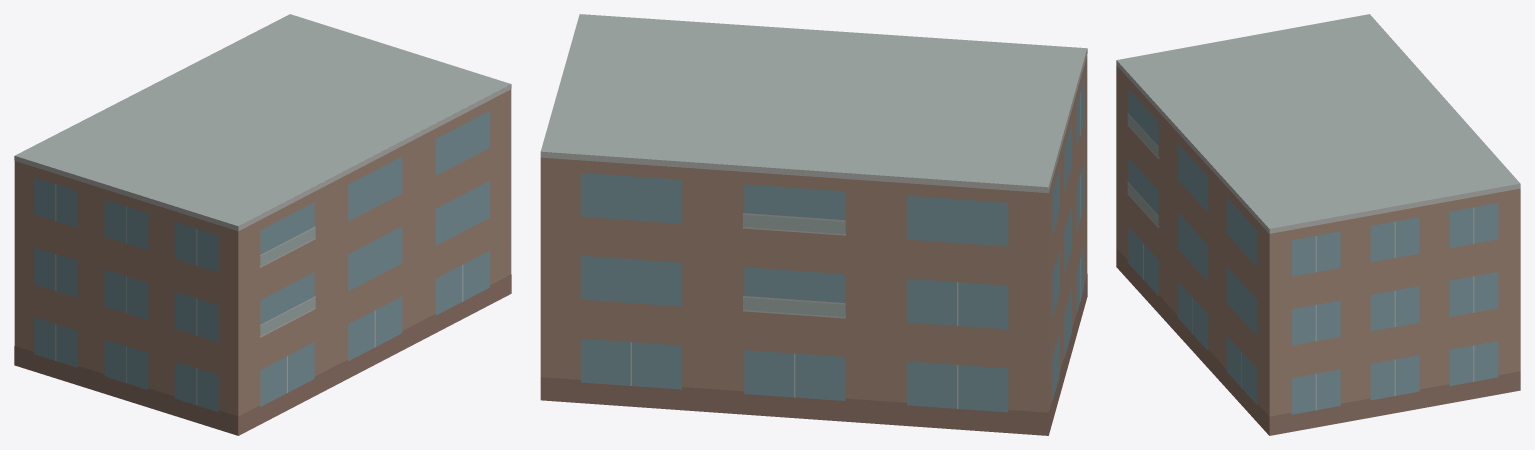
Rendered from survey-upis-32837829.glb.
3 views of the same model, side by side, from view 1: azimuth 30°, elevation 25°; view 2: azimuth 150°, elevation 25°; view 3: azimuth 270°, elevation 25° (orthographic). The views are drawn at different scales.
Parts seen in each view (by area): view 1: survey-upis-32837829.tmp; view 2: survey-upis-32837829.tmp; view 3: survey-upis-32837829.tmp.
Boxes of the visible parts, x1,y1,x2,y2 form: survey-upis-32837829.tmp: (14,14,511,435); survey-upis-32837829.tmp: (540,14,1087,435); survey-upis-32837829.tmp: (1116,14,1520,435).
Size of the model in its own units: 22.73 by 10.2 by 18.06.
